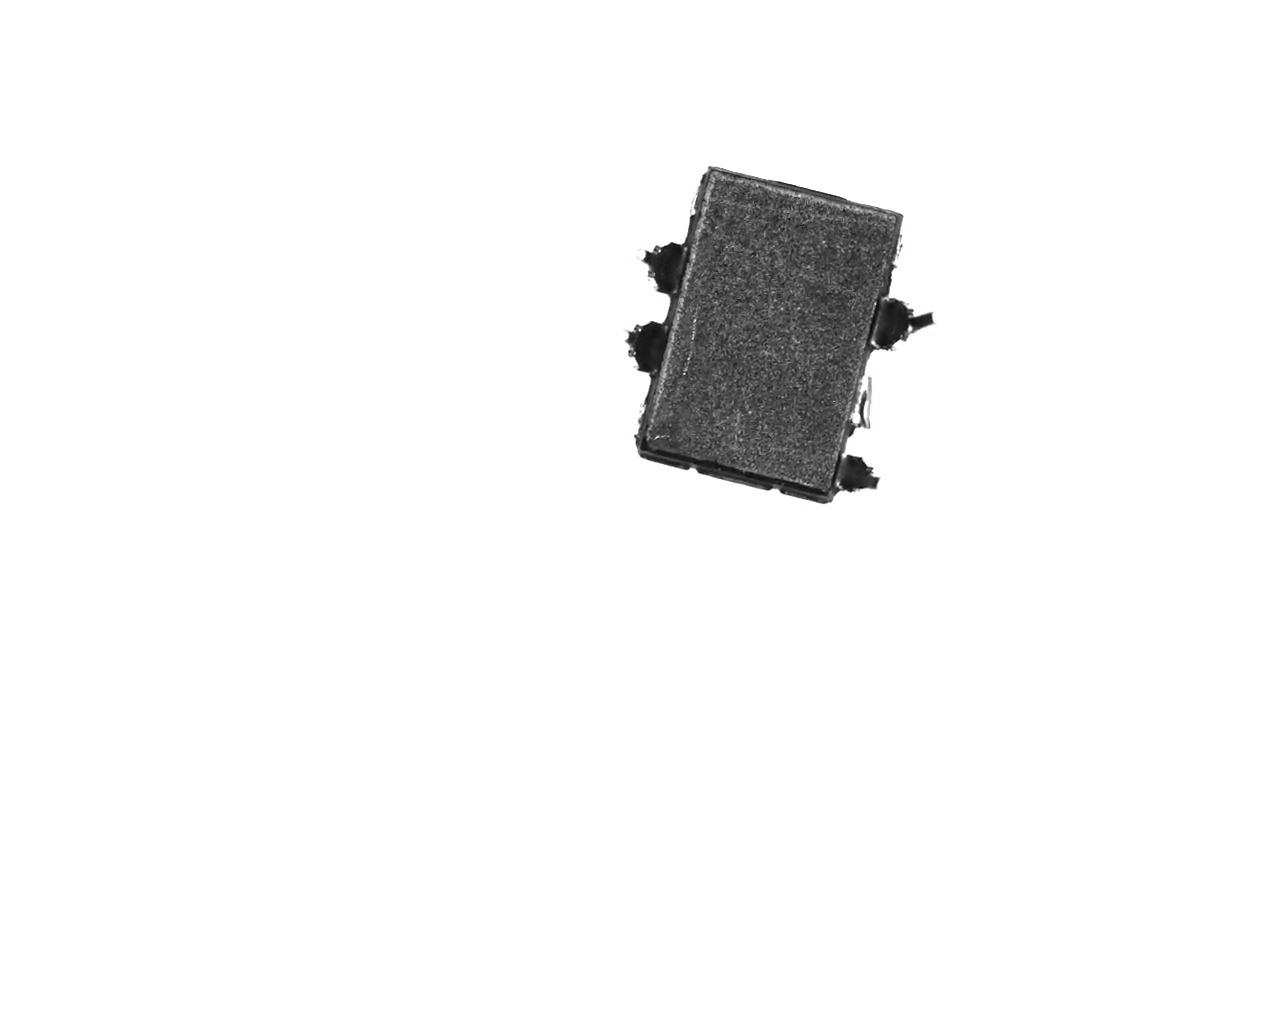brokenLeg: (862, 287, 940, 355), (608, 311, 670, 377), (630, 237, 693, 297), (828, 444, 884, 495)
missingLeg: (847, 369, 876, 437), (626, 381, 652, 443), (889, 223, 914, 283), (686, 176, 711, 227)
